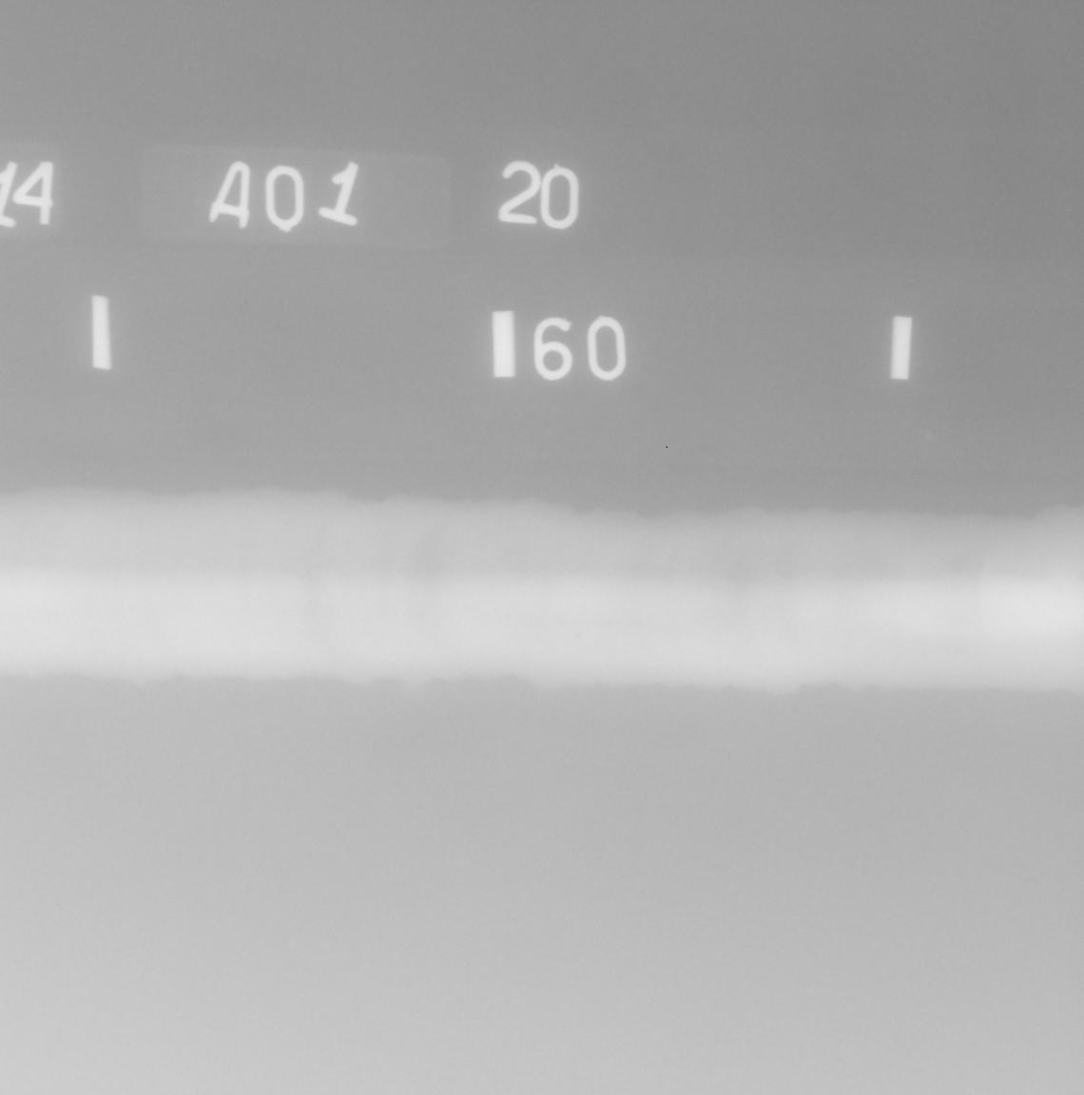Pore/Porosity: (575, 632, 581, 638), (606, 621, 611, 625), (954, 649, 959, 653)
